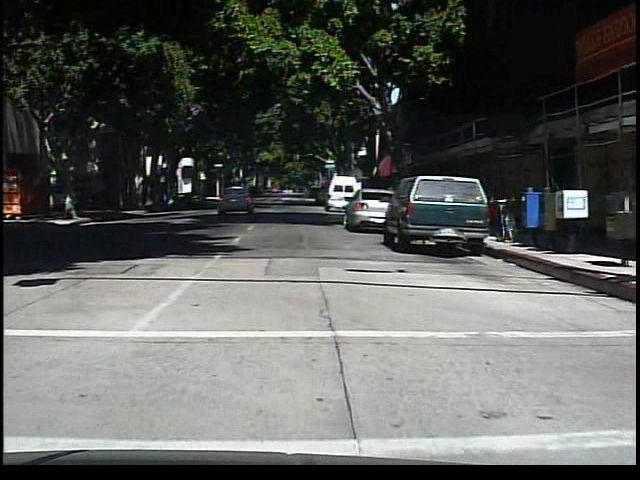person: (59, 178, 76, 220), (294, 179, 313, 206)
